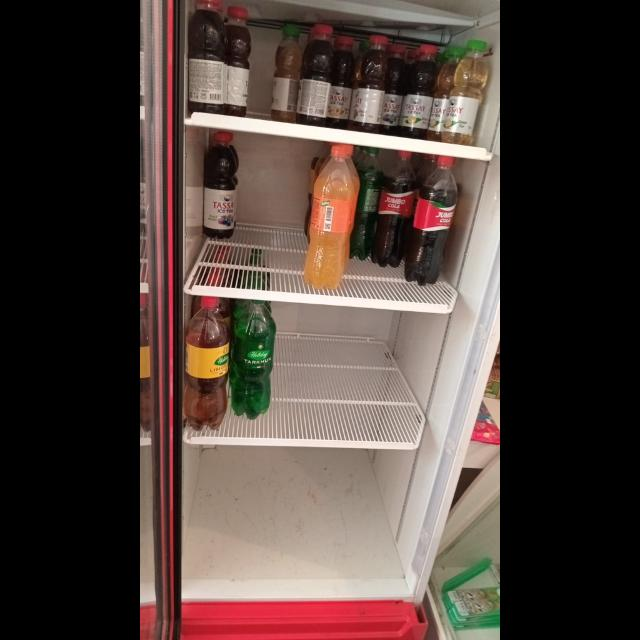Cooling-Display: (146, 1, 499, 640)
